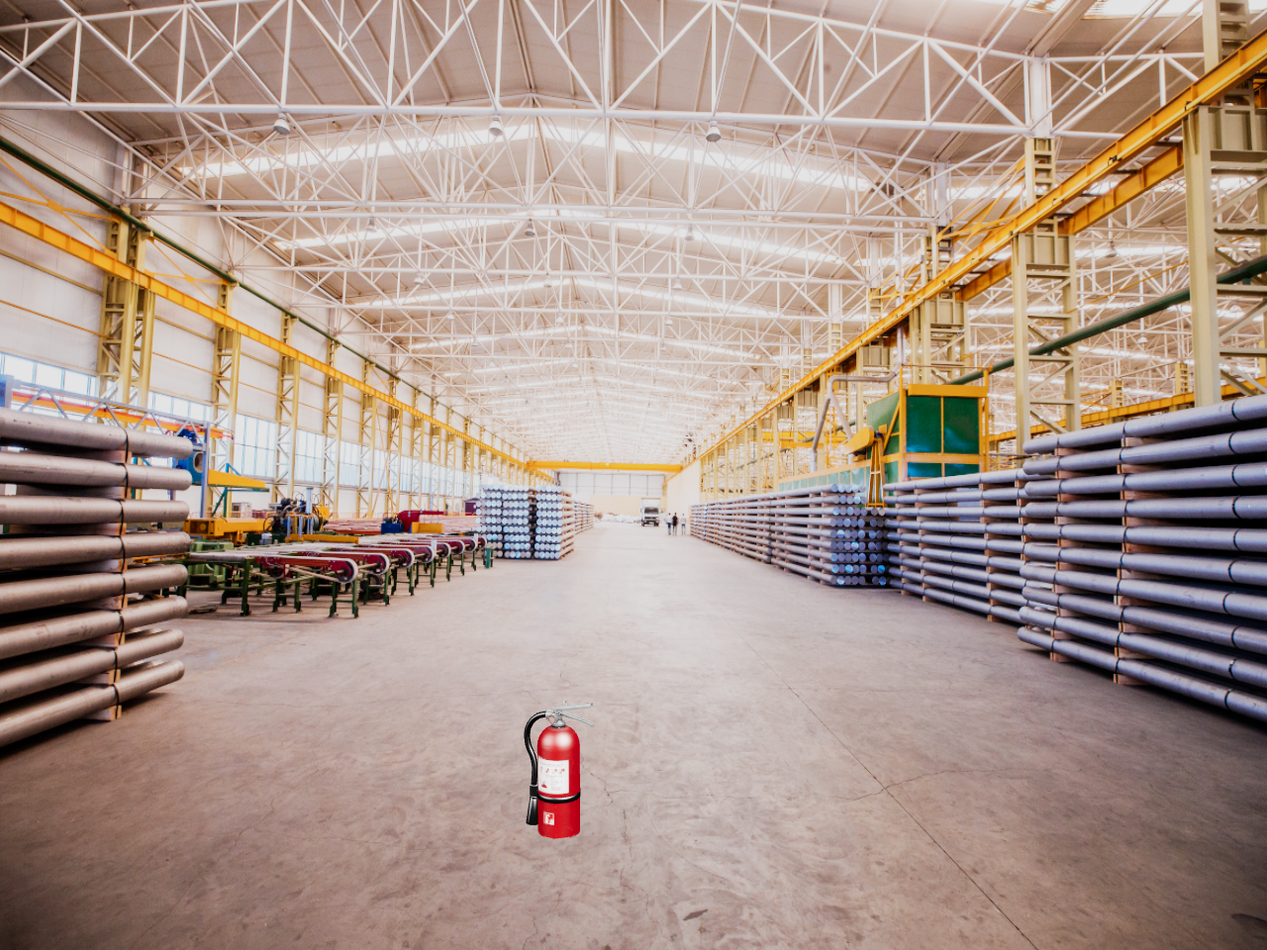KapsoleAtashNeshani: (524, 700, 594, 839)
